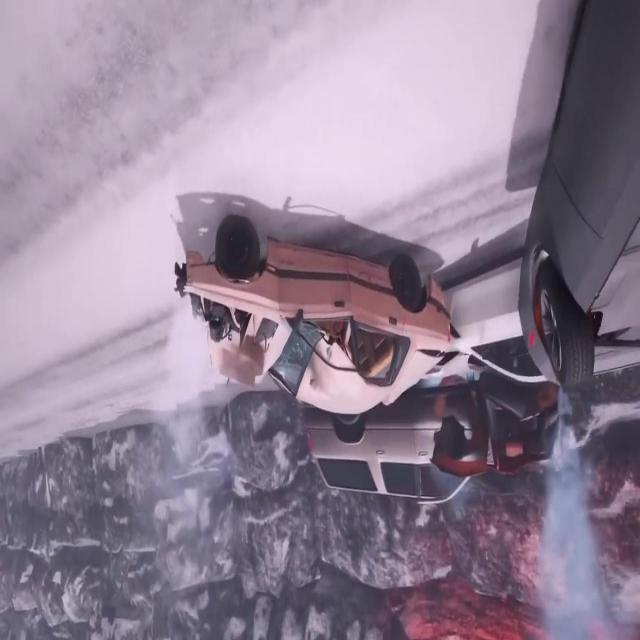severe: (170, 208, 573, 414), (517, 0, 640, 398), (303, 371, 567, 507)
